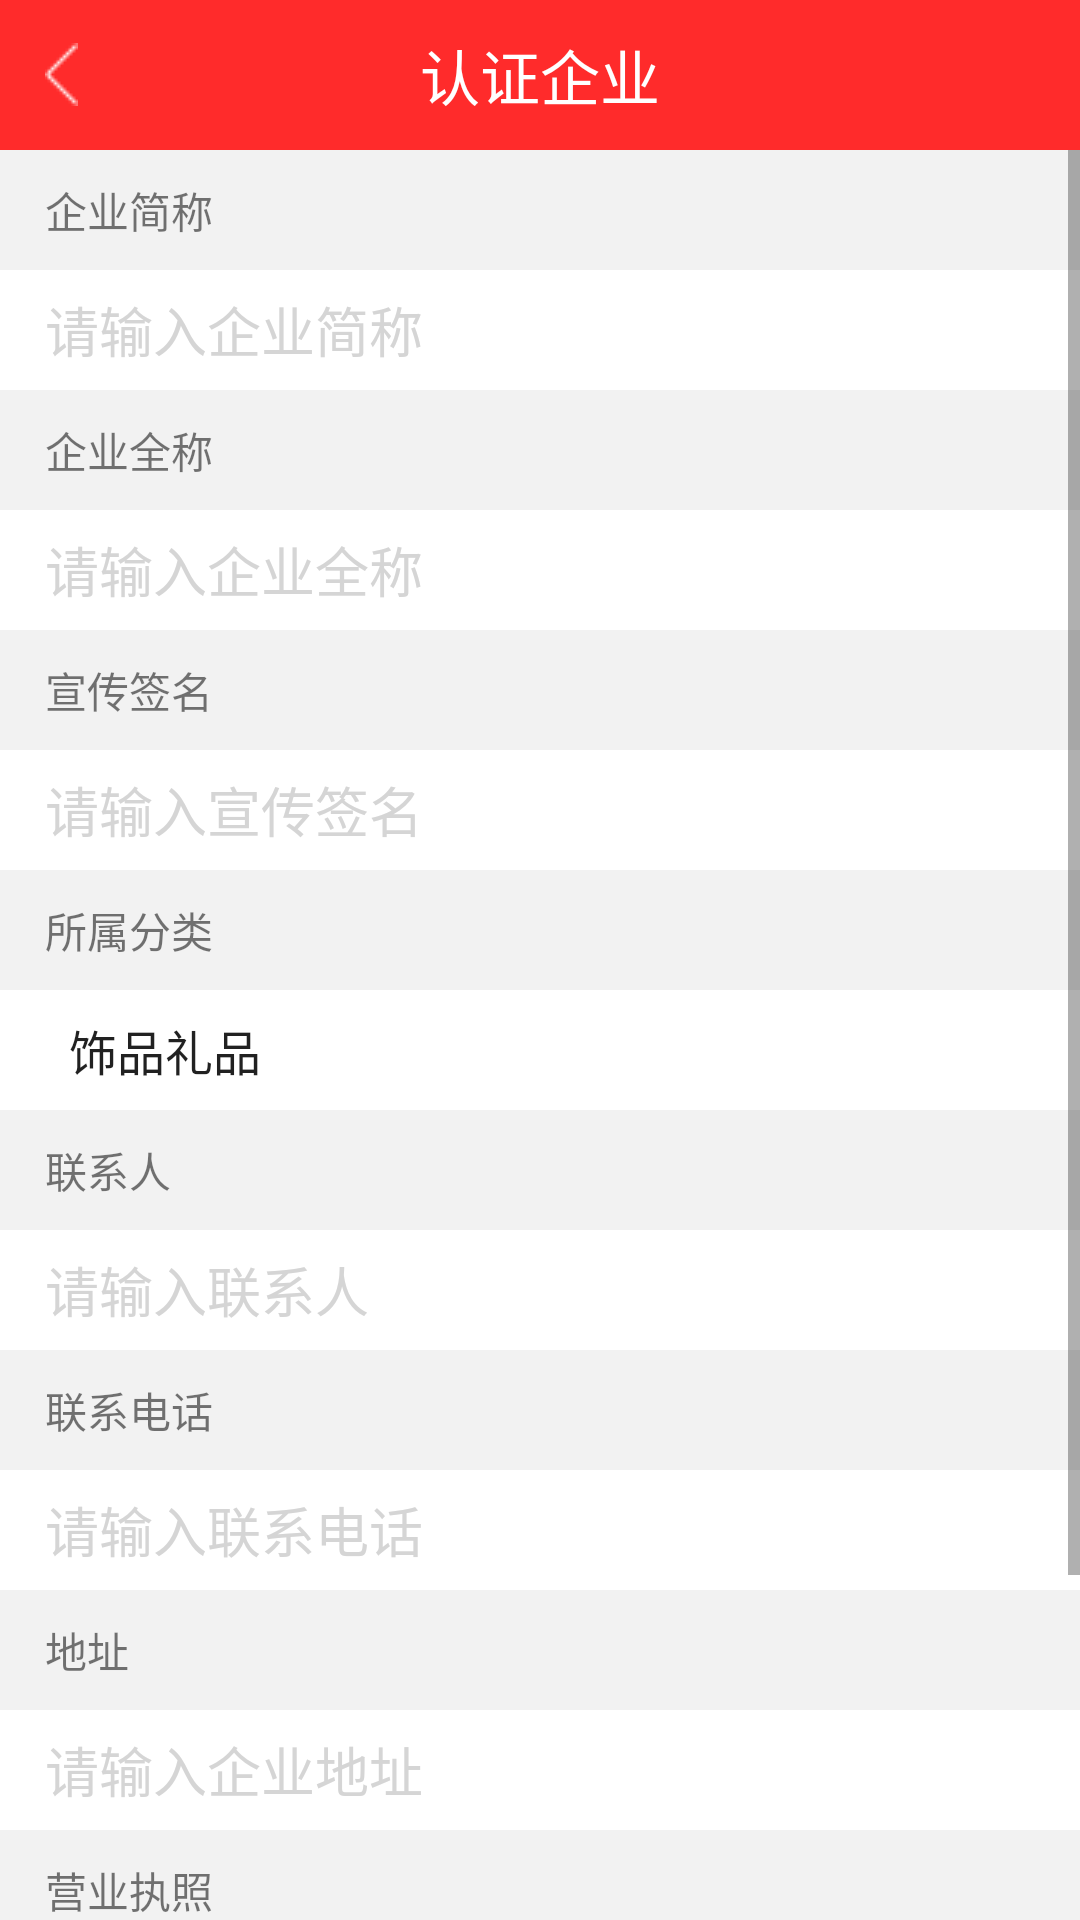

Locate icon controls on the screen. Image size 1080px×1920px, boxes as (x1, y1, x2, y2).
fanhui: (45, 43, 78, 106)
